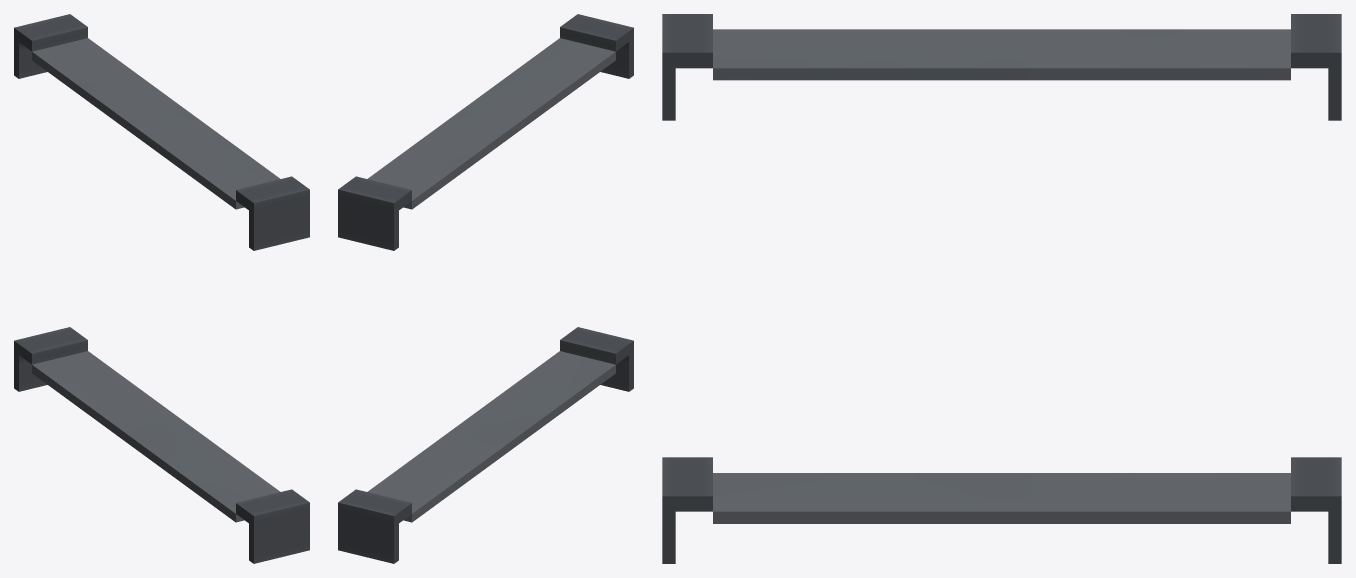
File: joint_left_upper.obj
3 views of the same model, side by side, from view 1: azimuth 30°, elevation 25°; view 2: azimuth 150°, elevation 25°; view 3: azimuth 270°, elevation 25° (orthographic). The views are drawn at different scales.
Visible parts, largest first — view 1: joint_left_upper__joint_left_upper_deck, joint_left_upper__joint_left_upper_beams; view 2: joint_left_upper__joint_left_upper_deck, joint_left_upper__joint_left_upper_beams; view 3: joint_left_upper__joint_left_upper_deck, joint_left_upper__joint_left_upper_beams.
Boxes of the visible parts, left/top/right/bottom form: joint_left_upper__joint_left_upper_deck: left=32, top=38, right=280, bottom=522; joint_left_upper__joint_left_upper_beams: left=14, top=14, right=309, bottom=563; joint_left_upper__joint_left_upper_deck: left=367, top=38, right=615, bottom=522; joint_left_upper__joint_left_upper_beams: left=338, top=14, right=633, bottom=563; joint_left_upper__joint_left_upper_deck: left=713, top=29, right=1290, bottom=523; joint_left_upper__joint_left_upper_beams: left=662, top=14, right=1341, bottom=563.
Size of the model in its own units: 0.0844 by 0.5187 by 0.625.
